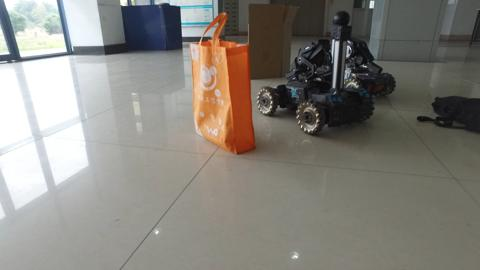bag: (187, 11, 257, 157)
chariot: (259, 11, 372, 135)
